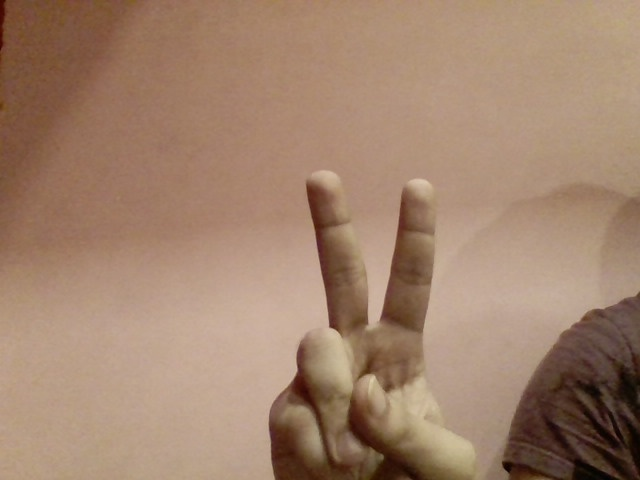v: (252, 165, 494, 472)
